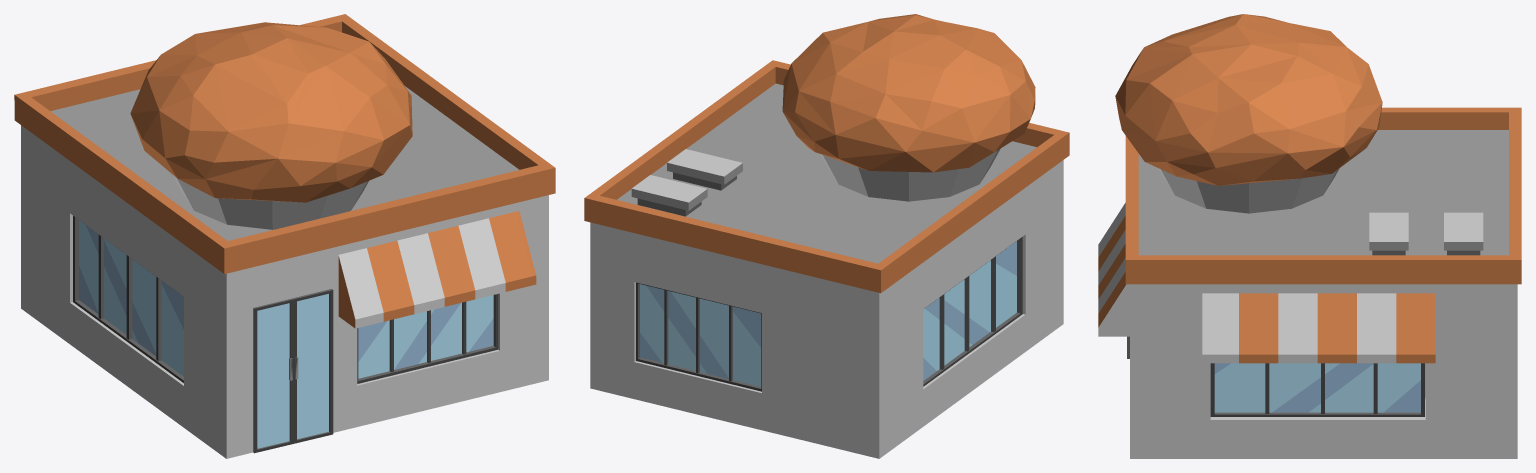
File: cafe_005.fbx
3 views of the same model, side by side, from view 1: azimuth 30°, elevation 25°; view 2: azimuth 150°, elevation 25°; view 3: azimuth 270°, elevation 25° (orthographic). The views are drawn at different scales.
Visible parts, largest first — view 1: cafe_005; view 2: cafe_005; view 3: cafe_005.
Part boxes in pixels (<box>): cafe_005: <box>14,14,555,458</box>; cafe_005: <box>584,14,1069,458</box>; cafe_005: <box>1098,14,1521,458</box>.
Bounding box in the file's own units: 574 × 515 × 611.
